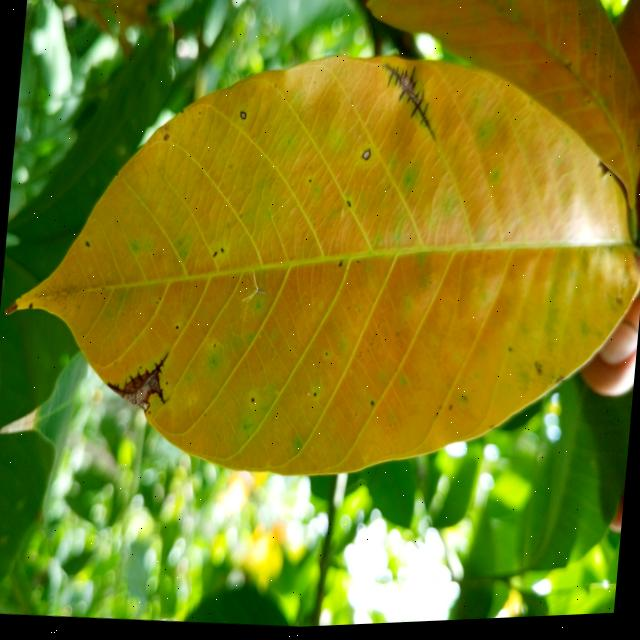Colletotrichum: (361, 151, 372, 163), (238, 111, 246, 121), (85, 240, 90, 247), (346, 203, 351, 209), (370, 403, 374, 409), (250, 399, 254, 404), (220, 249, 224, 253), (175, 326, 178, 329), (148, 411, 150, 414)
Corynespora: (374, 64, 442, 145), (105, 347, 170, 417)
